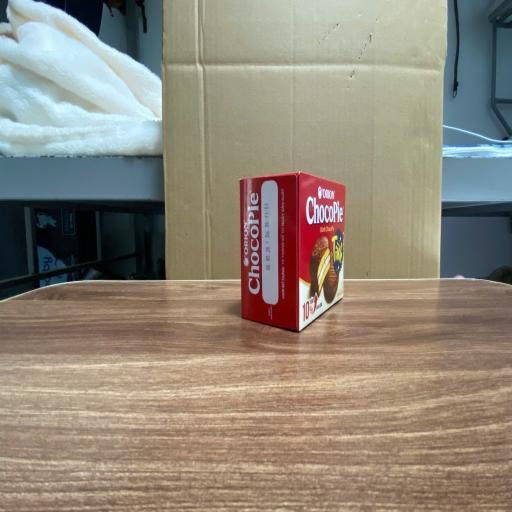chocopie: (239, 172, 346, 333)
